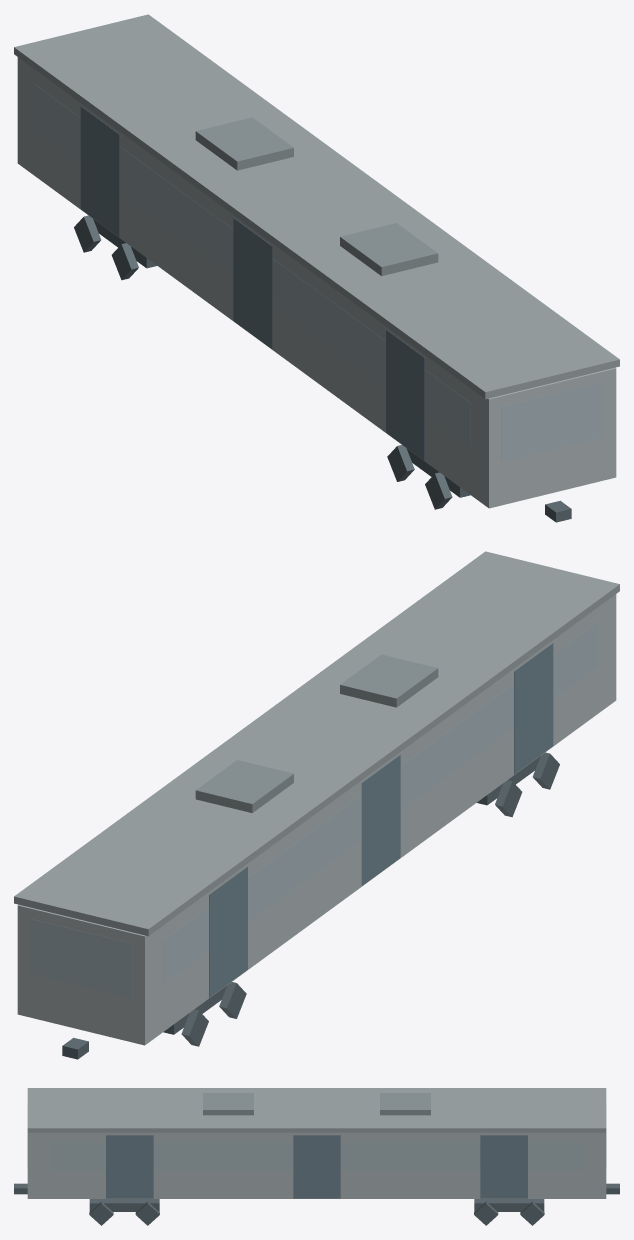
Rendered from expo-metro-middle-exterior.lod2.glb.
3 views of the same model, one above another, from view 1: azimuth 30°, elevation 25°; view 2: azimuth 150°, elevation 25°; view 3: azimuth 270°, elevation 25° (orthographic). The views are drawn at different scales.
Visible parts, largest first — view 1: body-shell, glass; view 2: body-shell, glass; view 3: body-shell, glass, bogie-front-frame, bogie-rear-frame, wheel-front-front-left, wheel-front-rear-left, wheel-rear-front-left, wheel-rear-rear-left.
Boxes of the visible parts, x1,y1,x2,y2 form: body-shell: (14, 14, 619, 522); glass: (35, 85, 604, 461); body-shell: (14, 551, 619, 1059); glass: (29, 622, 598, 998); body-shell: (14, 1088, 619, 1198); glass: (50, 1143, 583, 1169); bogie-front-frame: (89, 1199, 159, 1211); bogie-rear-frame: (474, 1199, 544, 1211); wheel-front-front-left: (89, 1201, 113, 1225); wheel-front-rear-left: (135, 1201, 159, 1225); wheel-rear-front-left: (474, 1201, 498, 1225); wheel-rear-rear-left: (520, 1201, 544, 1225).
Bounding box in the file's own units: 2.8 × 3.48 × 17.8.
